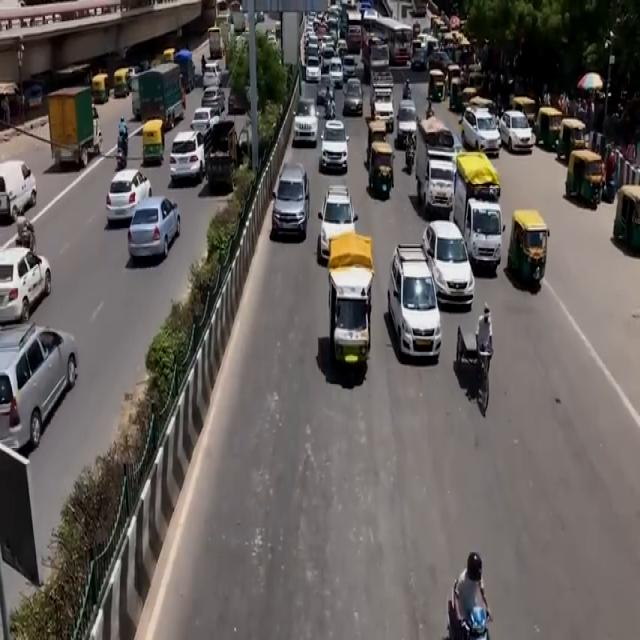TRUCK: (455, 155, 507, 275), (331, 262, 374, 386), (48, 84, 98, 168)
